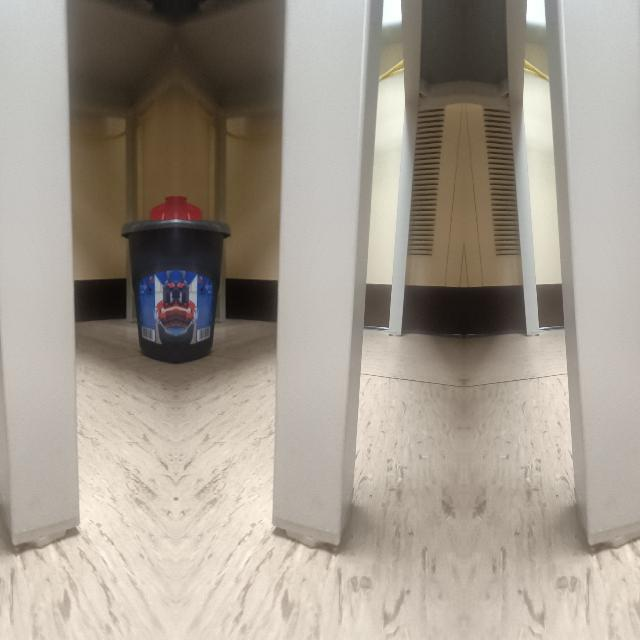obstacle: (274, 147, 360, 548), (0, 147, 76, 548), (567, 147, 640, 548)
